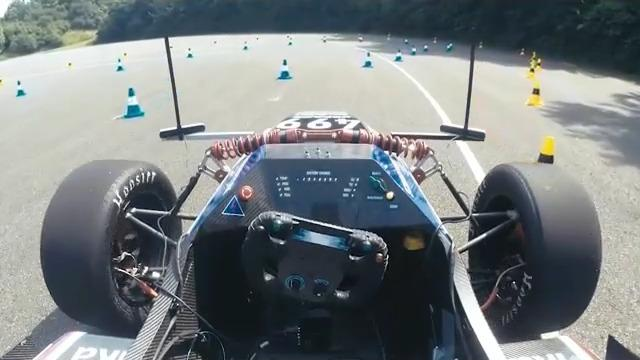blue_cone: (120, 84, 152, 124), (273, 55, 298, 81), (362, 51, 376, 68), (394, 46, 404, 64), (411, 43, 417, 57), (425, 41, 426, 58)
yellow_cone: (537, 126, 559, 168), (526, 73, 546, 105), (530, 48, 546, 70)
